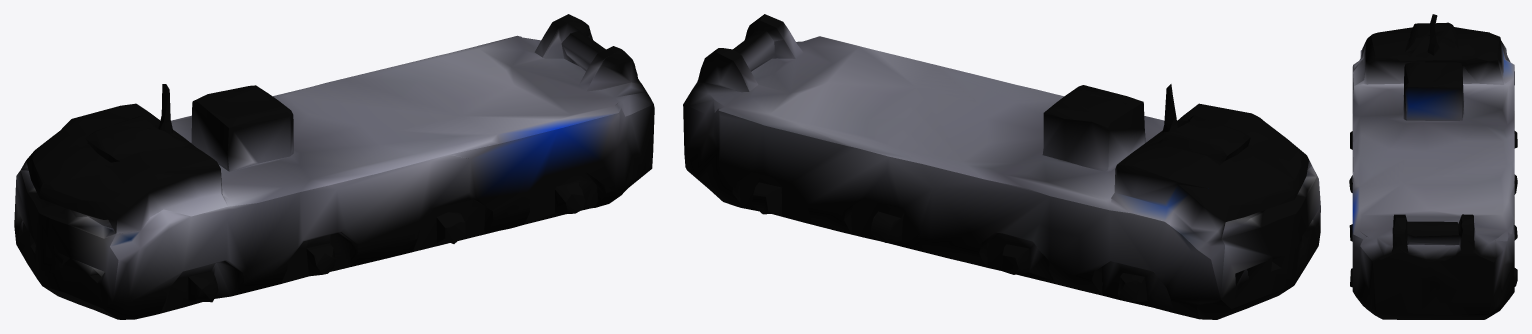
The model's file is chassis_source.glb.
3 views of the same model, side by side, from view 1: azimuth 30°, elevation 25°; view 2: azimuth 150°, elevation 25°; view 3: azimuth 270°, elevation 25° (orthographic). The views are drawn at different scales.
Visible parts, largest first — view 1: geometry_0; view 2: geometry_0; view 3: geometry_0.
Boxes of the visible parts, x1,y1,x2,y2 form: geometry_0: (14, 14, 654, 319); geometry_0: (683, 14, 1320, 319); geometry_0: (1349, 14, 1517, 319).
Bounding box in the file's own units: 1 × 0.3089 × 0.328.
1 material, 1 textured.
